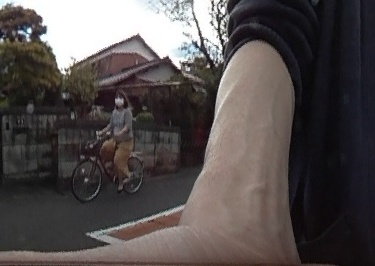person: (100, 88, 136, 185)
